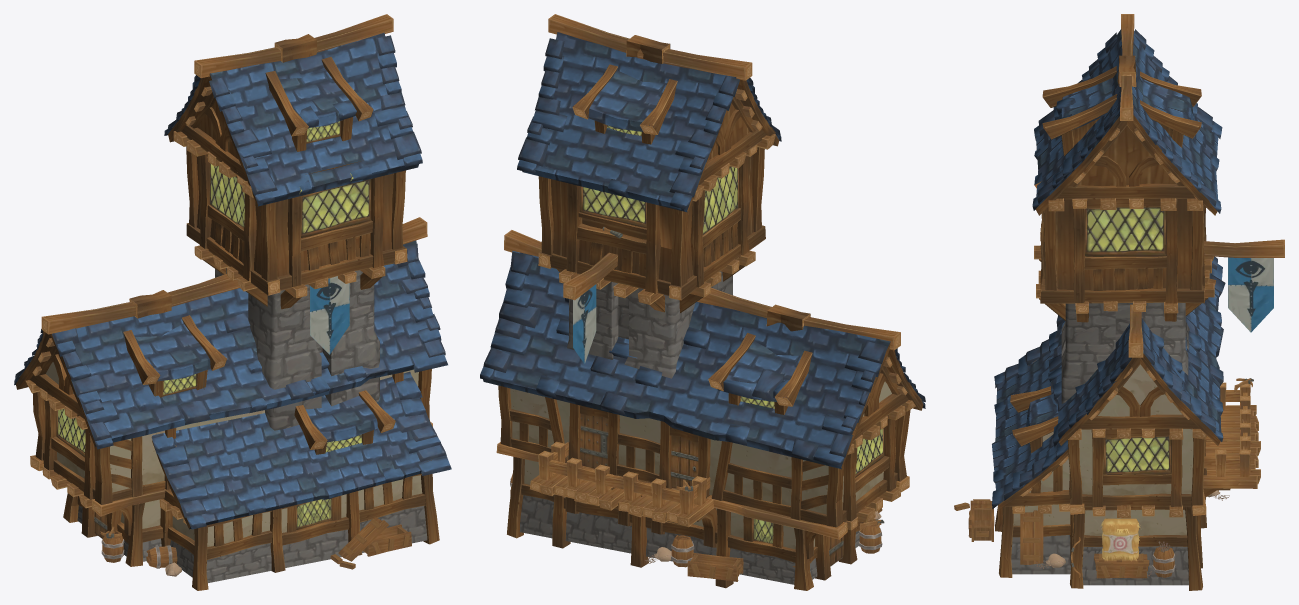
File: BLD_MitosisSpire.glb
3 renders of one model, left to right at view 1: azimuth 30°, elevation 25°; view 2: azimuth 150°, elevation 25°; view 3: azimuth 270°, elevation 25°, orthographic. The views are drawn at different scales.
Visible parts, largest first — view 1: Ground Plane002_Material #243_0, Ground Plane002_Material #14_0, Ground Plane002_Material #409_0, Ground Plane002_Material #15_0, Ground Plane002_Material #94_0; view 2: Ground Plane002_Material #243_0, Ground Plane002_Material #14_0, Ground Plane002_Material #409_0, Ground Plane002_Material #15_0, Ground Plane002_Material #94_0; view 3: Ground Plane002_Material #14_0, Ground Plane002_Material #409_0, Ground Plane002_Material #243_0, Ground Plane002_Material #15_0, Ground Plane002_Material #94_0.
Boxes of the visible parts, bbox=[...] form: Ground Plane002_Material #243_0: bbox=[14, 32, 451, 529]; Ground Plane002_Material #14_0: bbox=[16, 34, 439, 590]; Ground Plane002_Material #409_0: bbox=[25, 14, 432, 576]; Ground Plane002_Material #15_0: bbox=[77, 268, 427, 582]; Ground Plane002_Material #94_0: bbox=[46, 362, 422, 546]; Ground Plane002_Material #243_0: bbox=[480, 32, 925, 469]; Ground Plane002_Material #14_0: bbox=[498, 35, 923, 590]; Ground Plane002_Material #409_0: bbox=[496, 14, 915, 581]; Ground Plane002_Material #15_0: bbox=[520, 271, 859, 584]; Ground Plane002_Material #94_0: bbox=[510, 381, 891, 549]; Ground Plane002_Material #14_0: bbox=[995, 55, 1230, 590]; Ground Plane002_Material #409_0: bbox=[954, 14, 1284, 578]; Ground Plane002_Material #243_0: bbox=[992, 29, 1225, 508]; Ground Plane002_Material #15_0: bbox=[1011, 302, 1189, 585]; Ground Plane002_Material #94_0: bbox=[1013, 364, 1193, 536].
Bounding box in the file's own units: 1449 × 1752 × 1092.
Materials: 5 (5 with a texture image).
